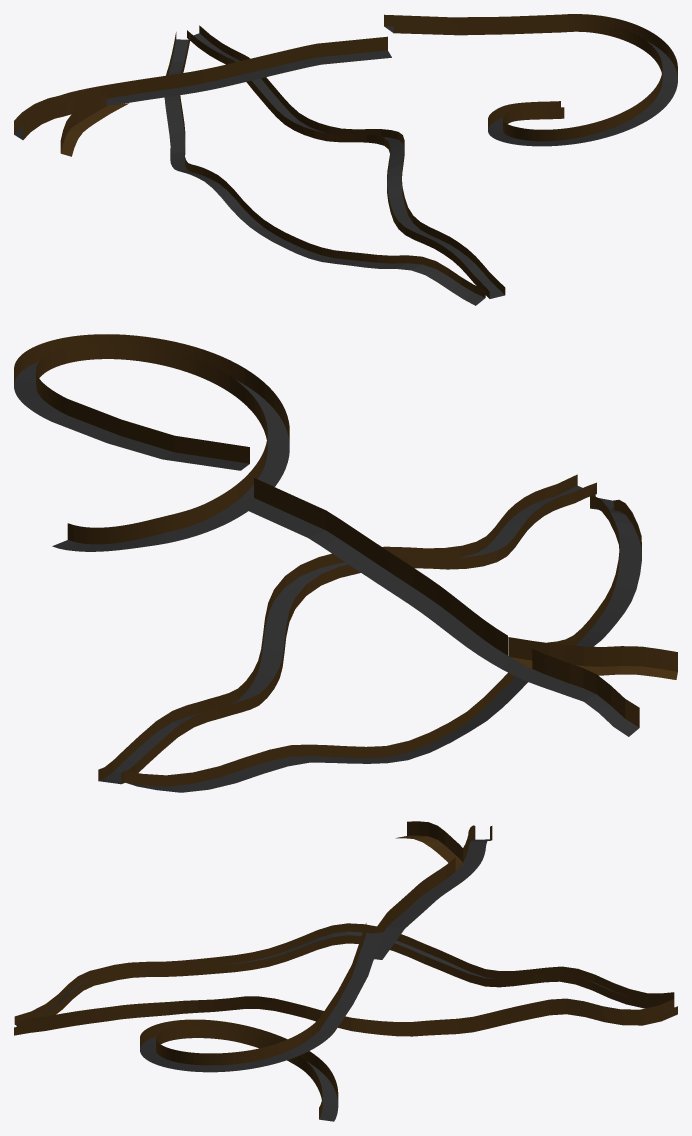
Rendered from ColiderplanerV2.fbx.
The picture shows the model from 3 angles, top to bottom: view 1: azimuth 30°, elevation 25°; view 2: azimuth 150°, elevation 25°; view 3: azimuth 270°, elevation 25°; orthographic projection. The views are drawn at different scales.
Parts seen in each view (by area): view 1: CollissionPath2; view 2: CollissionPath2; view 3: CollissionPath2.
Boxes of the visible parts, left/top/right/bottom form: CollissionPath2: left=14, top=14, right=677, bottom=305; CollissionPath2: left=14, top=334, right=677, bottom=792; CollissionPath2: left=14, top=821, right=677, bottom=1121.
Bounding box in the file's own units: 7608 × 1936 × 7894.
